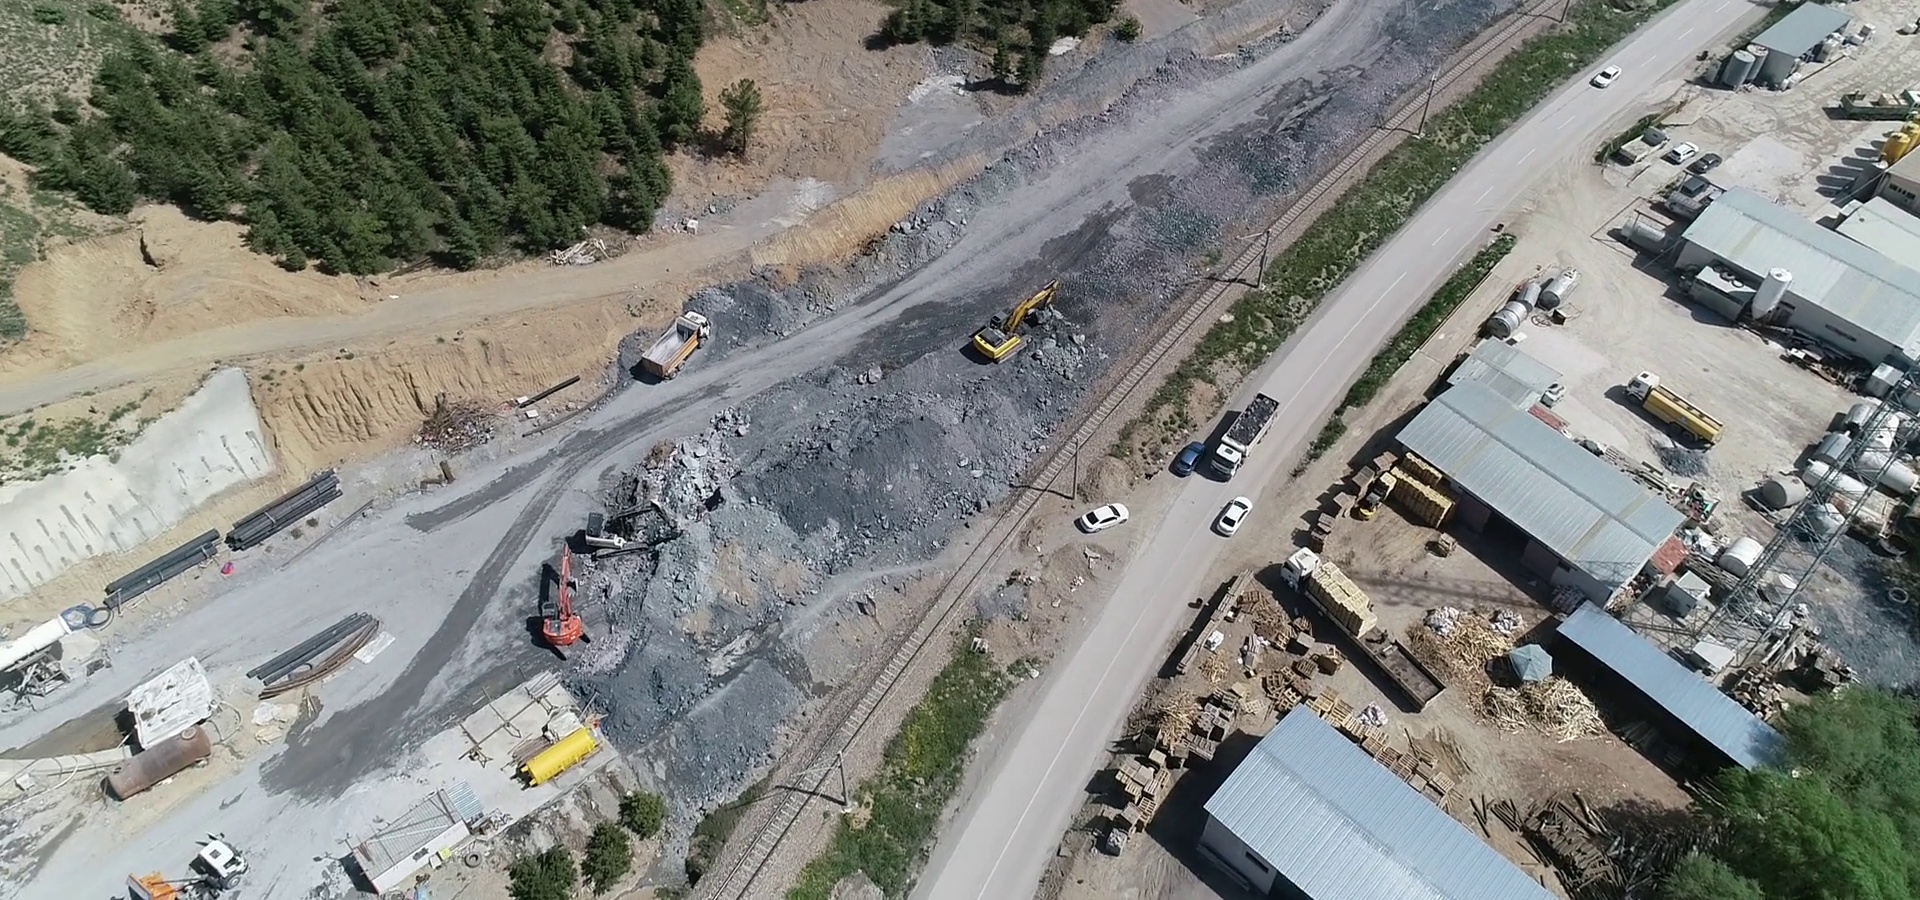araba: (1076, 500, 1131, 538), (1211, 493, 1250, 546), (1168, 432, 1205, 478), (1592, 65, 1625, 88)
ismakinasi: (967, 268, 1082, 369), (579, 478, 691, 561), (531, 538, 598, 655)
kamyon: (1273, 540, 1442, 722), (1618, 370, 1735, 452), (1213, 380, 1283, 485), (624, 306, 707, 394)
